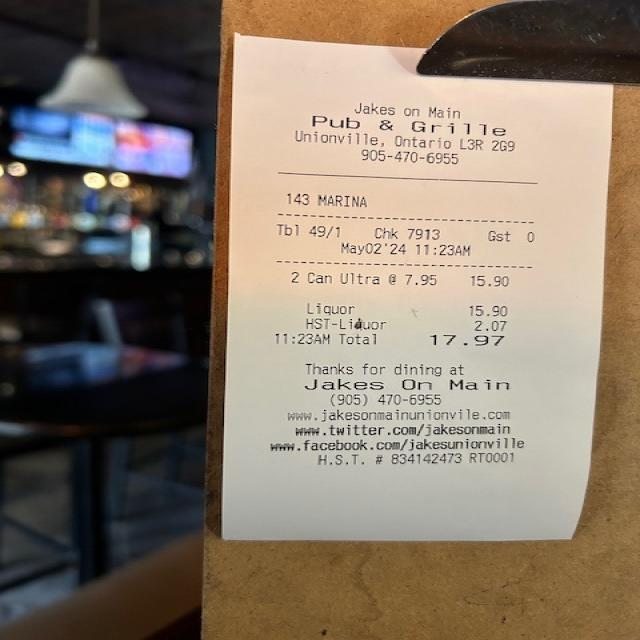item: (300, 265, 521, 294)
store_name: (300, 113, 513, 139)
total_amount: (333, 329, 513, 355)
transaction_date: (332, 238, 413, 262)
